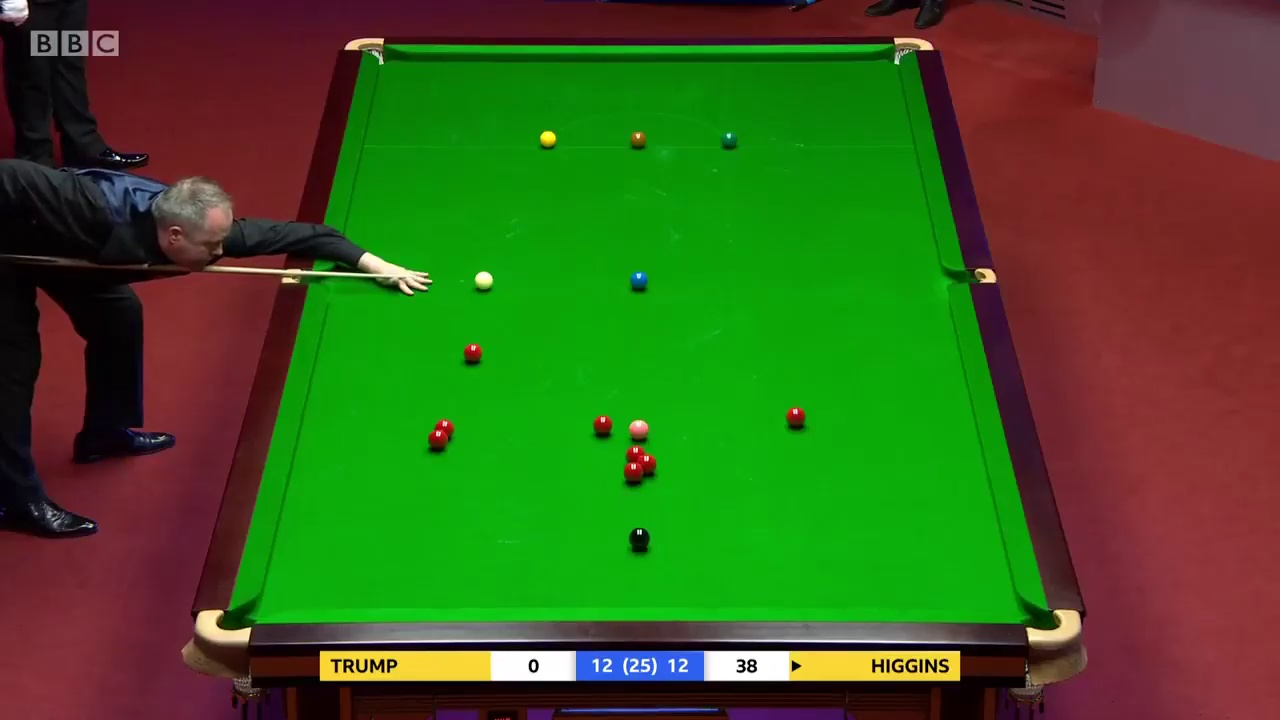ball: (622, 526, 652, 552), (472, 268, 494, 293), (424, 427, 446, 449), (784, 405, 806, 426), (536, 130, 557, 151), (628, 128, 649, 149), (628, 271, 651, 290), (621, 463, 643, 482), (460, 342, 481, 361), (591, 415, 612, 432), (719, 129, 738, 147)
